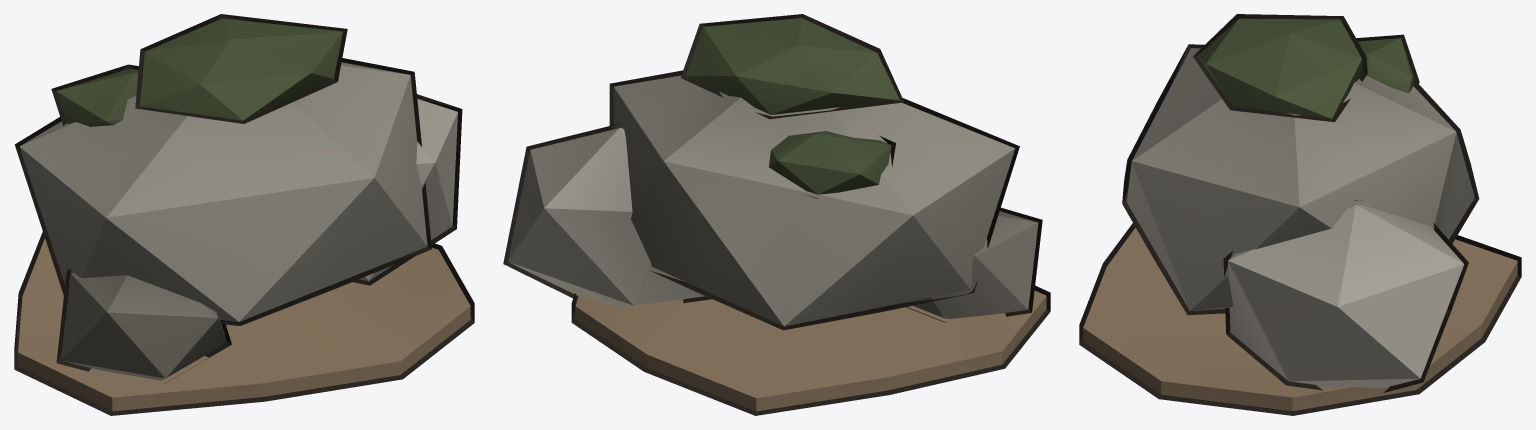
The model's file is rocher.glb.
The picture shows the model from 3 angles, left to right: view 1: azimuth 30°, elevation 25°; view 2: azimuth 150°, elevation 25°; view 3: azimuth 270°, elevation 25°; orthographic projection. The views are drawn at different scales.
Parts seen in each view (by area): view 1: rocher, rocher_outline; view 2: rocher, rocher_outline; view 3: rocher, rocher_outline.
Part boxes in pixels (x1=…): rocher: x1=18, y1=18, x2=470, y2=411; rocher_outline: x1=14, y1=14, x2=474, y2=415; rocher: x1=508, y1=18, x2=1046, y2=411; rocher_outline: x1=503, y1=14, x2=1050, y2=415; rocher: x1=1083, y1=18, x2=1517, y2=411; rocher_outline: x1=1079, y1=14, x2=1521, y2=415.
Size of the model in its own units: 1.45 by 0.8656 by 1.18.
